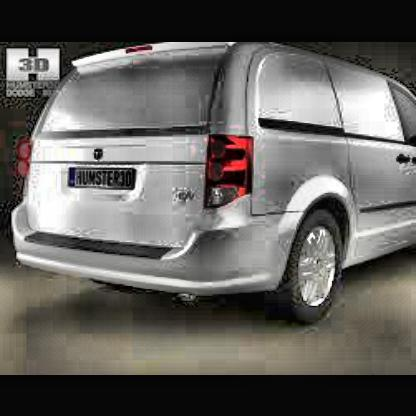Ram C-V Cargo Van Minivan 2012: (10, 43, 416, 349)
